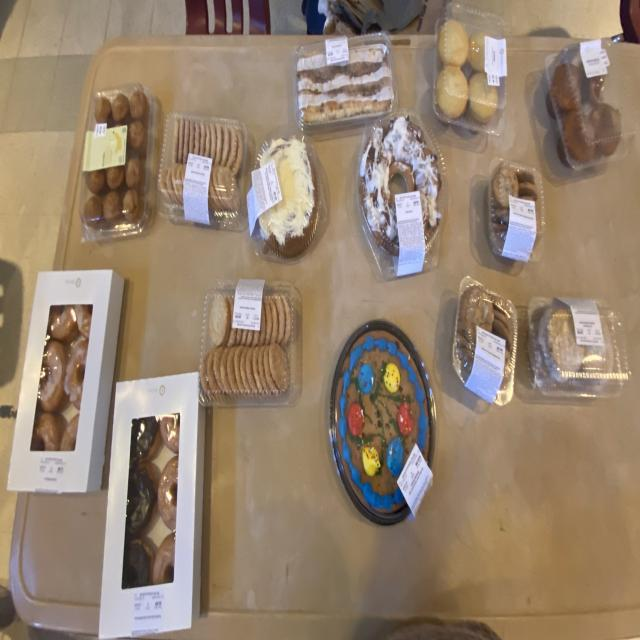Bread: (99, 373, 205, 638), (8, 270, 124, 494), (330, 320, 435, 525), (531, 39, 640, 183), (358, 108, 446, 279), (199, 282, 301, 407), (80, 84, 159, 241), (246, 128, 329, 262), (158, 113, 248, 231), (292, 34, 398, 132), (529, 296, 630, 397), (434, 2, 508, 135), (452, 277, 518, 407), (489, 159, 545, 262)
